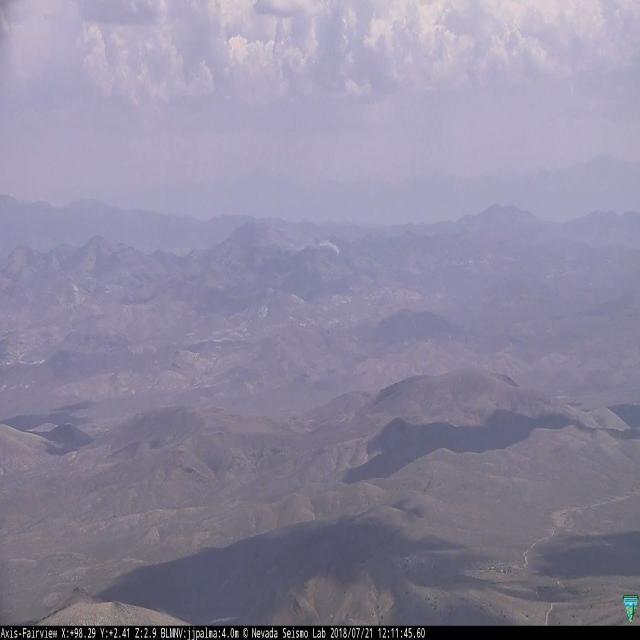smoke: (318, 239, 341, 256)
